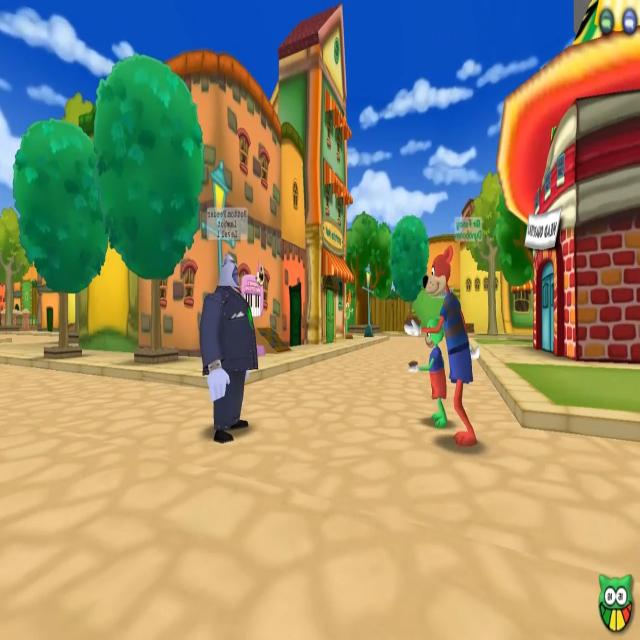bottomfeeder: (194, 201, 264, 443)
